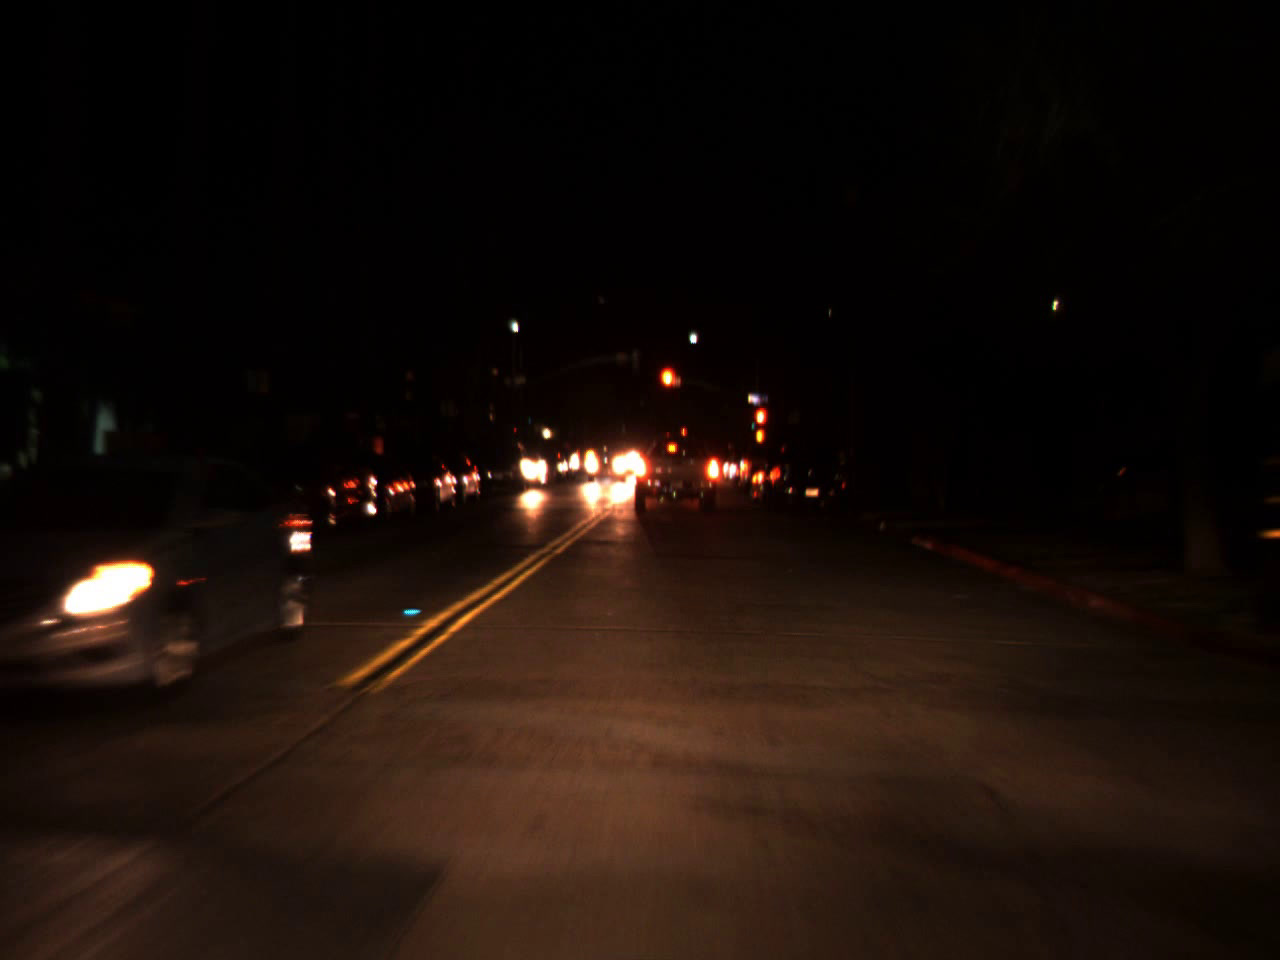stop: (657, 364, 679, 409), (750, 404, 769, 439)
